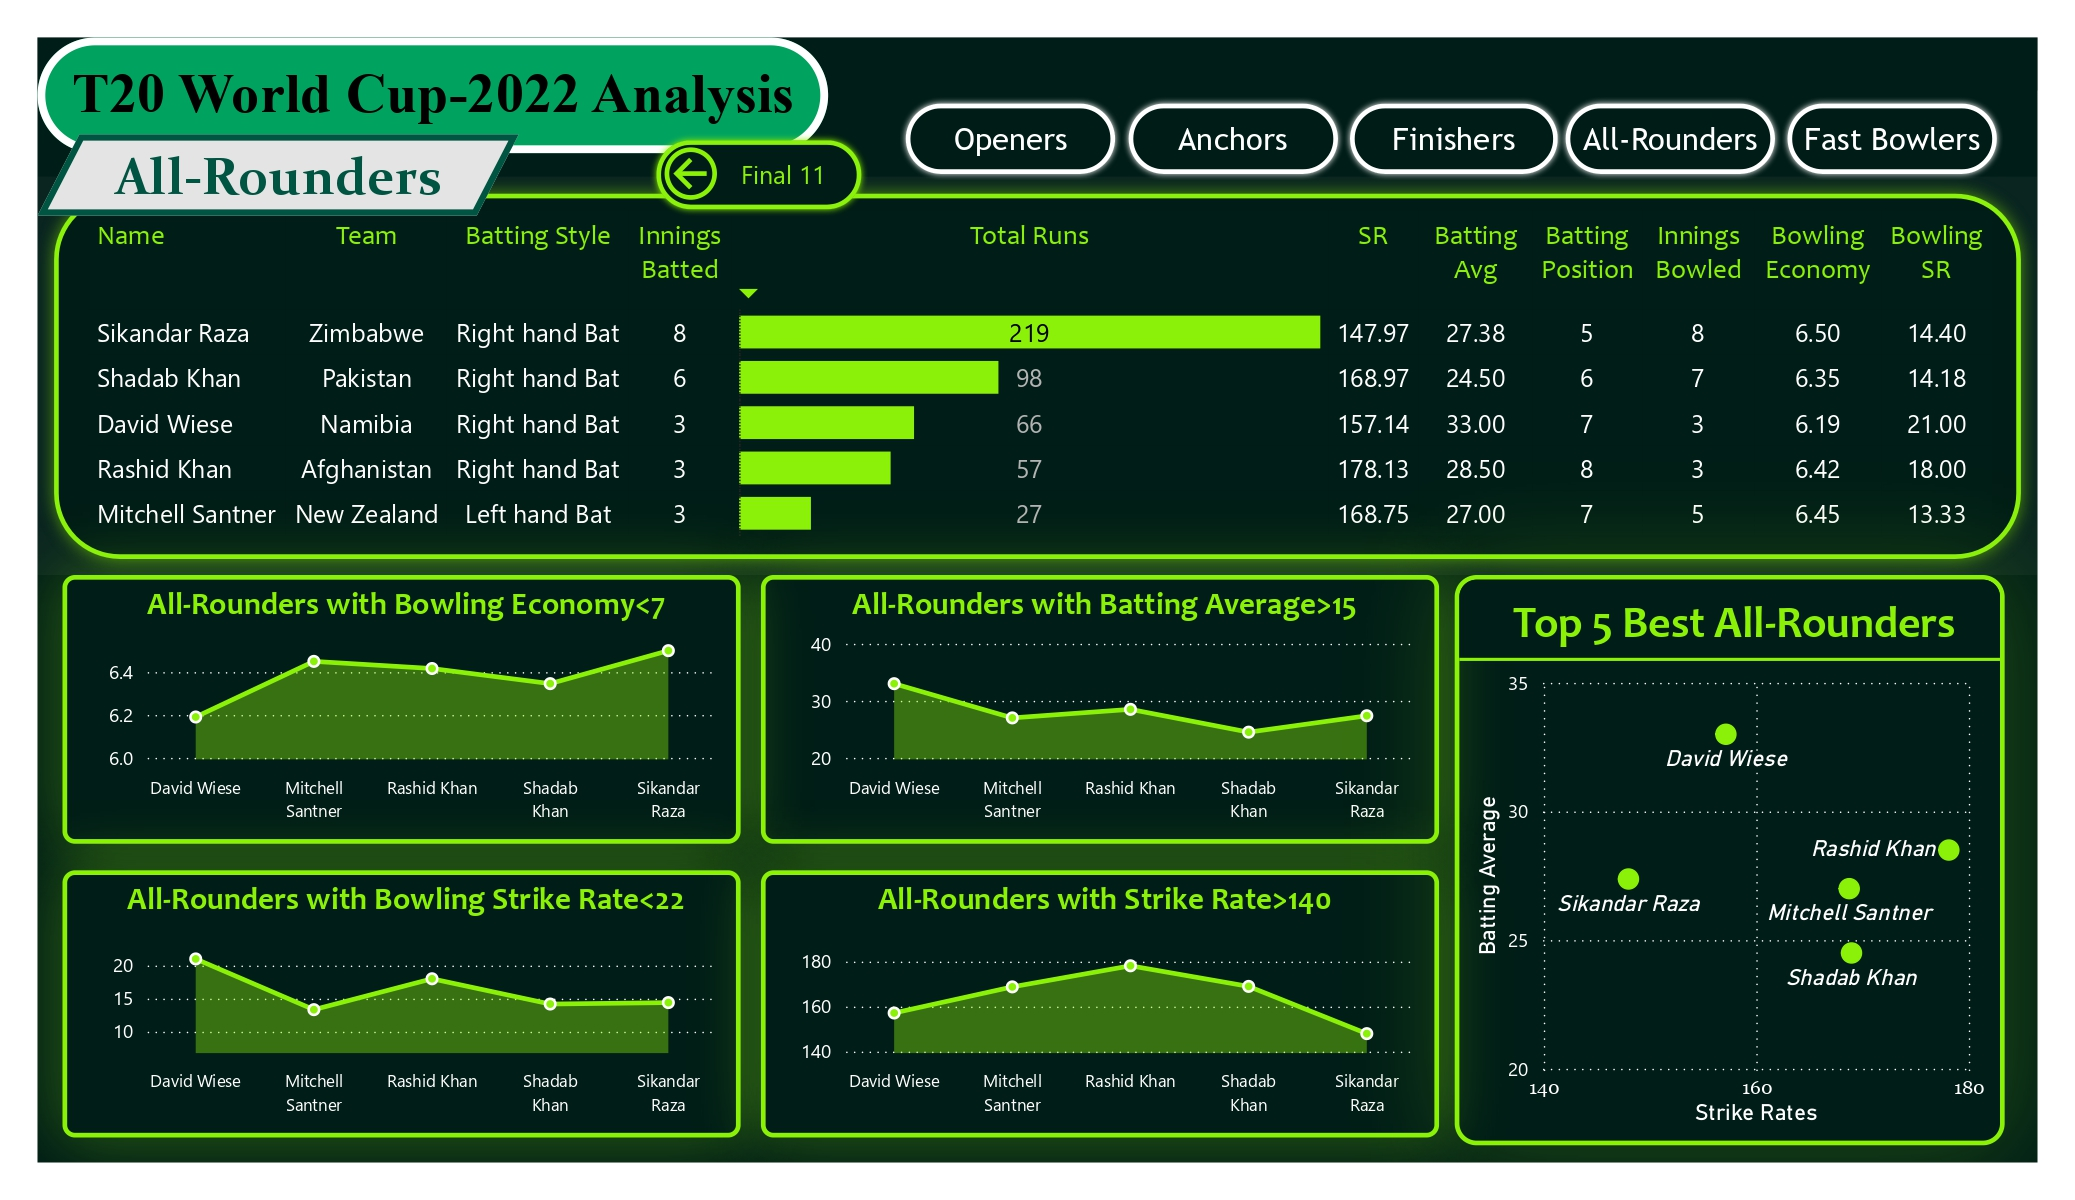

The dashboard page shown, as its layout file describes it:
{"tool":"powerbi","page":{"name":"All Rounders","canvas":[1280,720],"ordinal":3},"visuals":[{"type":"shape","box":[0,0,506,73.7],"z":0},{"type":"shape","box":[0,88.6,1280,255.7],"z":1000},{"type":"tableEx","fields":{"Values":["dim_players.name","dim_players.team","dim_players.battingStyle","Key measures.Total Innings Batted","Key measures.Total Runs","Key measures.Strike rate","Key measures.Batting Avg","Key measures.Batting Position","Key measures.Total Innings Bowled","Key measures.Bowling Economy","Key measures.Bowling Strike Rate"]},"box":[27.1,105.7,1231.4,238.6],"z":2000},{"type":"stackedAreaChart","title":"All-Rounders with Batting Average>15","fields":{"Category":["dim_players.name"],"Y":["Key measures.Batting Avg"]},"box":[462.9,344.3,434.3,171.4],"z":3000},{"type":"stackedAreaChart","title":"All-Rounders with Bowling Economy<7","fields":{"Category":["dim_players.name"],"Y":["Key measures.Bowling Economy"]},"box":[15.7,344.3,434.3,171.4],"z":4000},{"type":"stackedAreaChart","title":"All-Rounders with Bowling Strike Rate<22","fields":{"Category":["dim_players.name"],"Y":["Key measures.Bowling Strike Rate"]},"box":[15.7,532.9,434.3,171.4],"z":5000},{"type":"stackedAreaChart","title":"All-Rounders with Strike Rate>140","fields":{"Category":["dim_players.name"],"Y":["Key measures.Strike rate"]},"box":[462.9,532.9,434.3,171.4],"z":6000},{"type":"scatterChart","title":"Top 5 Best All-Rounders","fields":{"X":["Key measures.Strike rate"],"Y":["Key measures.Batting Avg"],"Category":["dim_players.name"]},"box":[907.1,344.3,351.4,364.3],"z":7000},{"type":"shape","box":[0,62.2,308,52],"z":8000},{"type":"shape","box":[0,5.8,506,62.2],"z":9000},{"type":"actionButton","box":[552.3,37.6,141.7,53.5],"z":10000},{"type":"actionButton","box":[694,37.6,141.7,53.5],"z":11000},{"type":"actionButton","box":[835.7,37.6,141.7,53.5],"z":12000},{"type":"actionButton","box":[974.5,37.6,141.7,53.5],"z":13000},{"type":"actionButton","box":[1116.1,37.6,141.7,53.5],"z":14000},{"type":"actionButton","box":[391.8,60.7,140.2,53.5],"z":15000}]}

Visuals, with their boxes on the page's 1280x720 design canvas (x1, y1, x2, y2). These are canvas units, not pixel positions in the 2075x1200 screenshot, which may show the page scaled, cropped or inside an application window:
shape: l=0, t=0, r=506, b=74
shape: l=0, t=89, r=1280, b=344
tableEx - dim_players.name x dim_players.team: l=27, t=106, r=1258, b=344
"All-Rounders with Batting Average>15" stackedAreaChart: l=463, t=344, r=897, b=516
"All-Rounders with Bowling Economy<7" stackedAreaChart: l=16, t=344, r=450, b=516
"All-Rounders with Bowling Strike Rate<22" stackedAreaChart: l=16, t=533, r=450, b=704
"All-Rounders with Strike Rate>140" stackedAreaChart: l=463, t=533, r=897, b=704
"Top 5 Best All-Rounders" scatterChart: l=907, t=344, r=1258, b=709
shape: l=0, t=62, r=308, b=114
shape: l=0, t=6, r=506, b=68
actionButton: l=552, t=38, r=694, b=91
actionButton: l=694, t=38, r=836, b=91
actionButton: l=836, t=38, r=977, b=91
actionButton: l=974, t=38, r=1116, b=91
actionButton: l=1116, t=38, r=1258, b=91
actionButton: l=392, t=61, r=532, b=114
